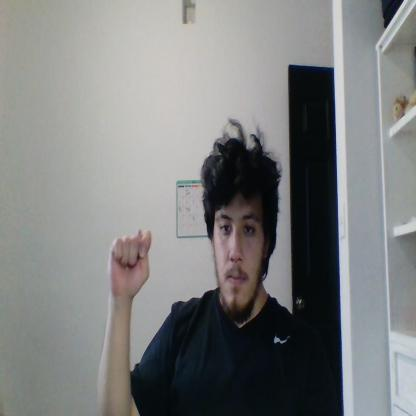T: (108, 228, 152, 298)
